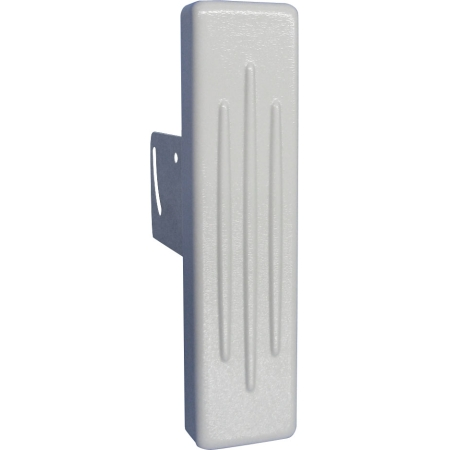sa: (150, 7, 316, 447)
